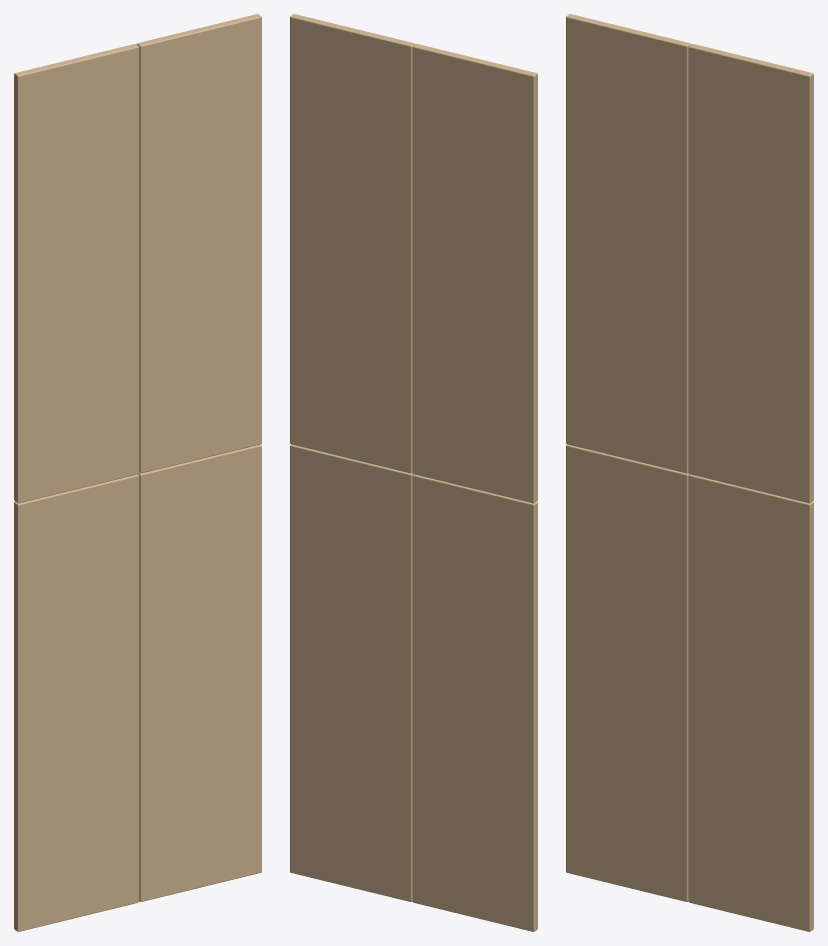
Rendered from DOOR_DOUBLE_VERTICAL_2_600x2000.glb.
The picture shows the model from 3 angles, left to right: view 1: azimuth 30°, elevation 25°; view 2: azimuth 150°, elevation 25°; view 3: azimuth 330°, elevation 25°; orthographic projection.
Visible parts, largest first — view 1: front_panel_03, front_panel_01, front_panel_04, front_panel_02; view 2: front_panel_03, front_panel_01, front_panel_04, front_panel_02; view 3: front_panel_04, front_panel_02, front_panel_03, front_panel_01.
Boxes of the visible parts, x1,y1,x2,y2 form: front_panel_03: (14, 44, 139, 503); front_panel_01: (14, 474, 139, 931); front_panel_04: (136, 14, 261, 473); front_panel_02: (138, 444, 261, 901); front_panel_03: (412, 44, 537, 503); front_panel_01: (412, 474, 537, 931); front_panel_04: (290, 14, 415, 473); front_panel_02: (290, 444, 413, 901); front_panel_04: (688, 44, 813, 503); front_panel_02: (688, 474, 813, 931); front_panel_03: (566, 14, 691, 473); front_panel_01: (566, 444, 689, 901).
Bounding box in the file's own units: 0.596 × 2 × 0.018.
